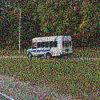buses: (27, 36, 73, 58)
